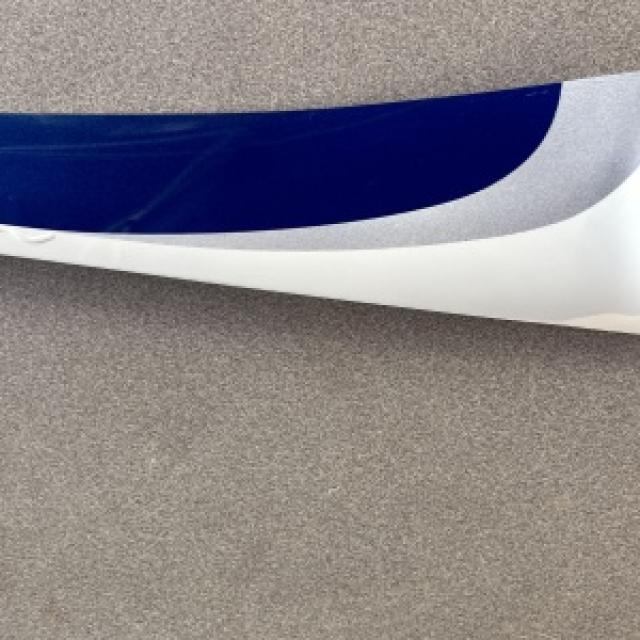healthy: (0, 70, 638, 331), (238, 83, 557, 230), (139, 212, 241, 235)
